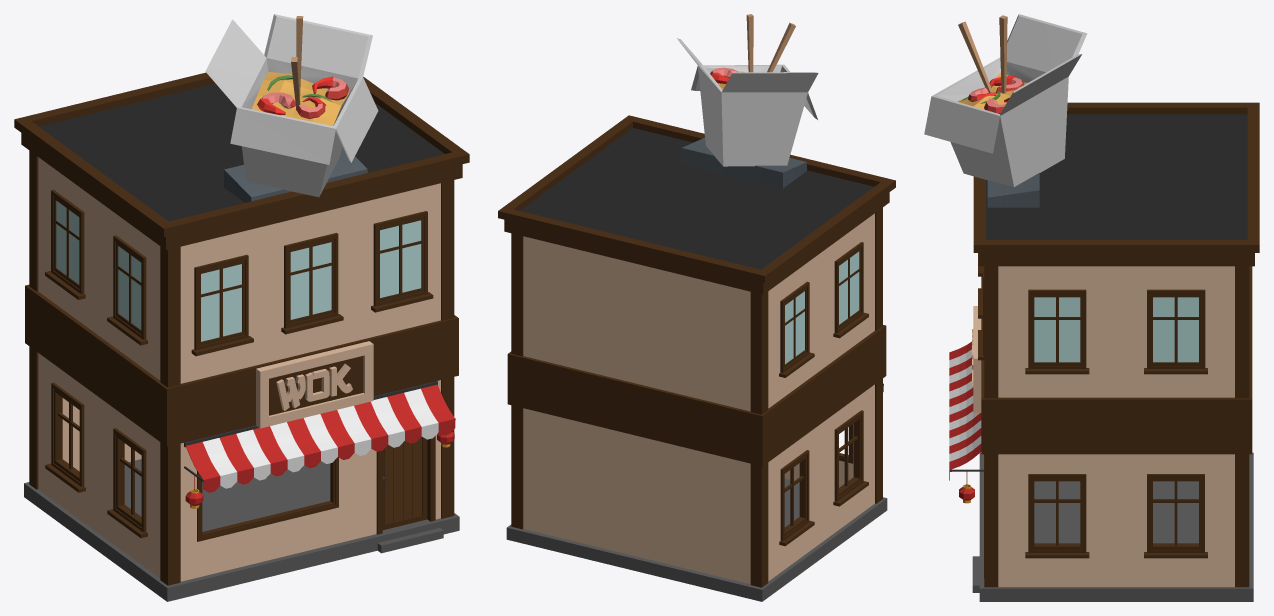
The model's file is Wok_01.fbx.
3 renders of one model, left to right at view 1: azimuth 30°, elevation 25°; view 2: azimuth 150°, elevation 25°; view 3: azimuth 270°, elevation 25°, orthographic. The views are drawn at different scales.
Visible parts, largest first — view 1: Wok_01, Wok_01_Door; view 2: Wok_01; view 3: Wok_01.
Boxes of the visible parts, x1,y1,x2,y2 form: Wok_01: [14, 14, 469, 601]; Wok_01_Door: [382, 436, 427, 530]; Wok_01: [498, 14, 895, 601]; Wok_01: [924, 14, 1259, 601].
Bounding box in the file's own units: 580 × 979 × 577.
